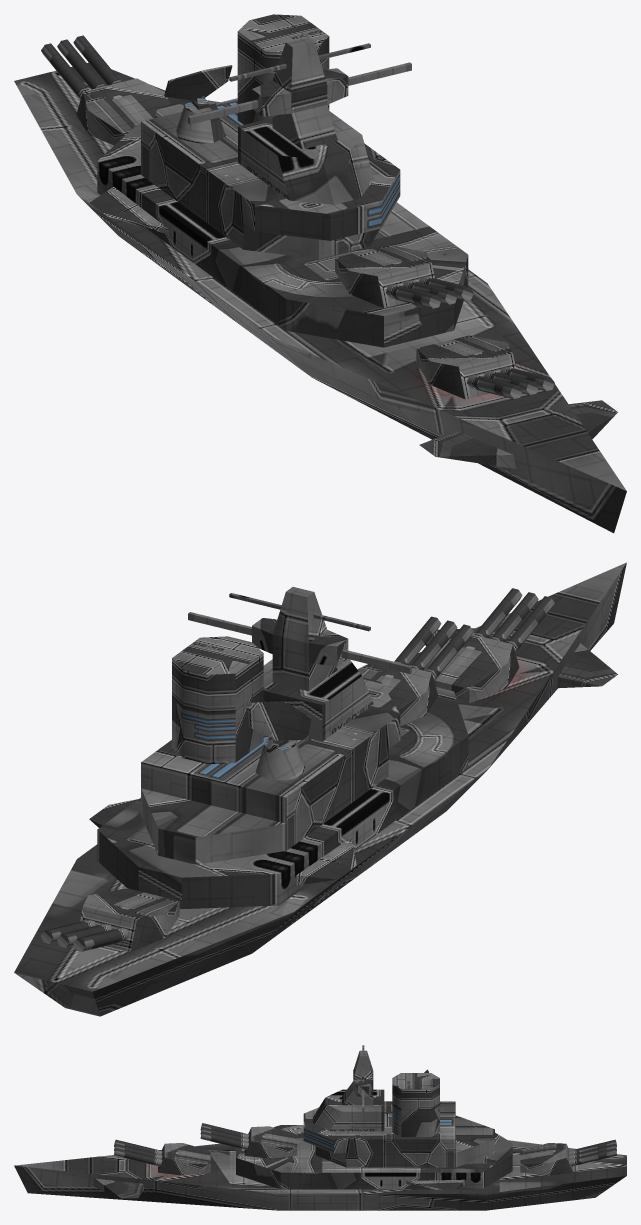
The model's file is Battleship.obj.
The picture shows the model from 3 angles, top to bottom: view 1: azimuth 30°, elevation 25°; view 2: azimuth 150°, elevation 25°; view 3: azimuth 270°, elevation 25°; orthographic projection. The views are drawn at different scales.
Parts seen in each view (by area): view 1: Battleship; view 2: Battleship; view 3: Battleship.
Part boxes in pixels (x1,y1,x2,y2): Battleship: [14, 14, 626, 533]; Battleship: [14, 562, 626, 1016]; Battleship: [14, 1045, 626, 1210].
Bounding box in the file's own units: 0.9864 × 0.9929 × 3.95.
